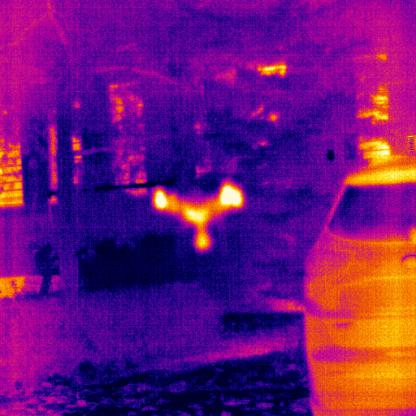drone: (149, 176, 246, 251)
